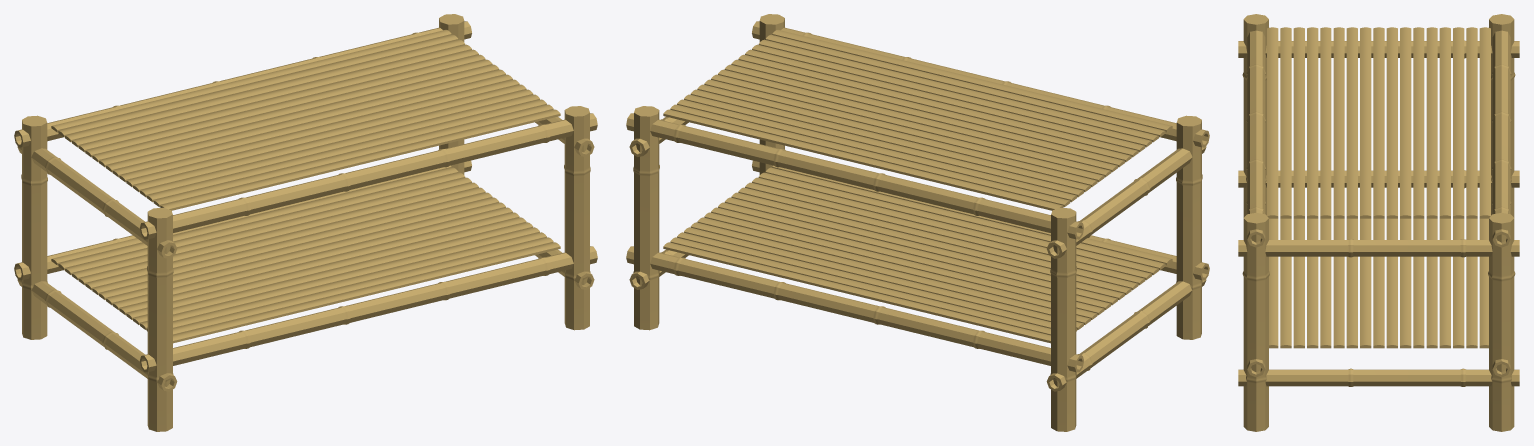
The model's file is ban_tre.mid.glb.
The picture shows the model from 3 angles, left to right: view 1: azimuth 30°, elevation 25°; view 2: azimuth 150°, elevation 25°; view 3: azimuth 270°, elevation 25°; orthographic projection. The views are drawn at different scales.
Visible parts, largest first — view 1: ban_tre; view 2: ban_tre; view 3: ban_tre.
Boxes of the visible parts, x1,y1,x2,y2 form: ban_tre: (14, 14, 597, 431); ban_tre: (626, 14, 1209, 431); ban_tre: (1238, 14, 1519, 431).
Bounding box in the file's own units: 0.99 × 0.45 × 0.55.
